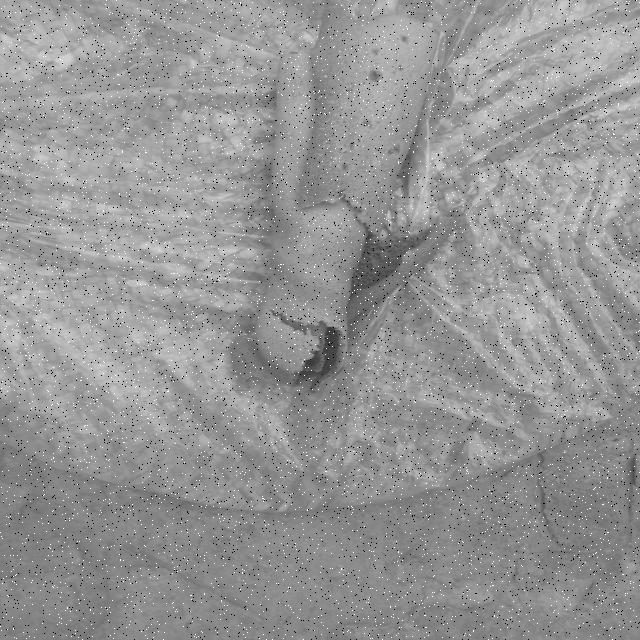injera_mold: (366, 67, 384, 85), (296, 238, 315, 255), (386, 142, 402, 160), (348, 201, 366, 216), (339, 159, 352, 176), (295, 192, 308, 208), (396, 34, 412, 44), (368, 46, 383, 55), (344, 85, 356, 96), (361, 118, 371, 130), (347, 140, 357, 150), (244, 335, 256, 343), (372, 160, 382, 169), (314, 152, 324, 158), (329, 188, 339, 194), (397, 64, 404, 72), (324, 197, 333, 203), (332, 155, 337, 165), (318, 125, 326, 131), (325, 119, 336, 123), (329, 99, 336, 105), (323, 143, 331, 148), (316, 134, 321, 140), (323, 74, 328, 79), (442, 227, 447, 232), (337, 50, 343, 54), (317, 95, 322, 99), (330, 125, 334, 129), (283, 274, 287, 278), (337, 146, 344, 148), (338, 56, 342, 59), (328, 112, 331, 116), (346, 52, 349, 56), (329, 37, 333, 39), (268, 324, 272, 326), (259, 324, 261, 326)
